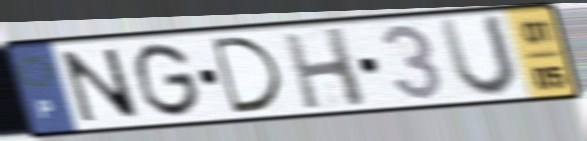3: (378, 21, 446, 104)
D: (206, 34, 287, 117)
G: (132, 40, 204, 120)
H: (279, 24, 371, 112)
N: (56, 45, 145, 125)
U: (434, 12, 523, 101)
